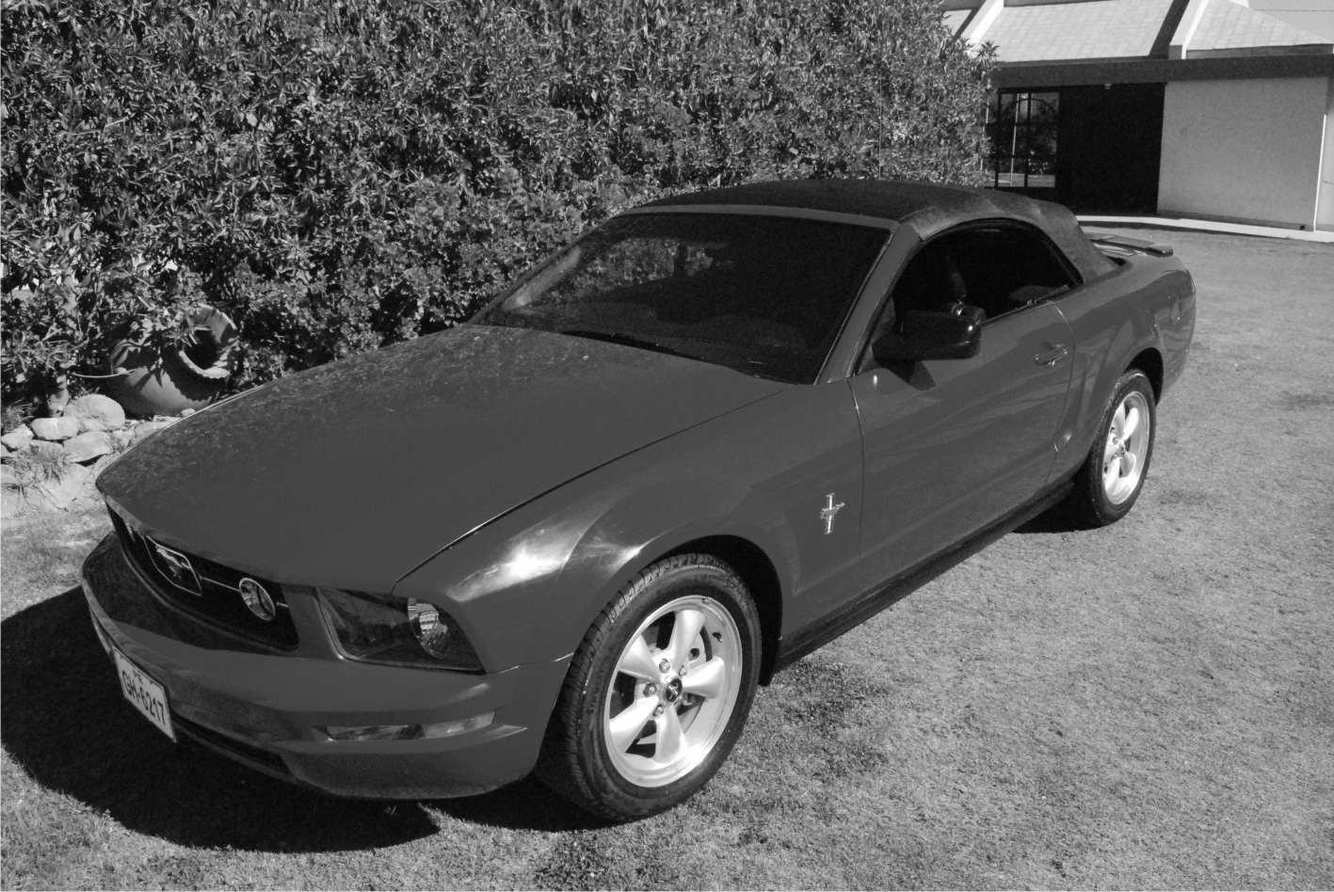car: (79, 173, 1204, 823)
